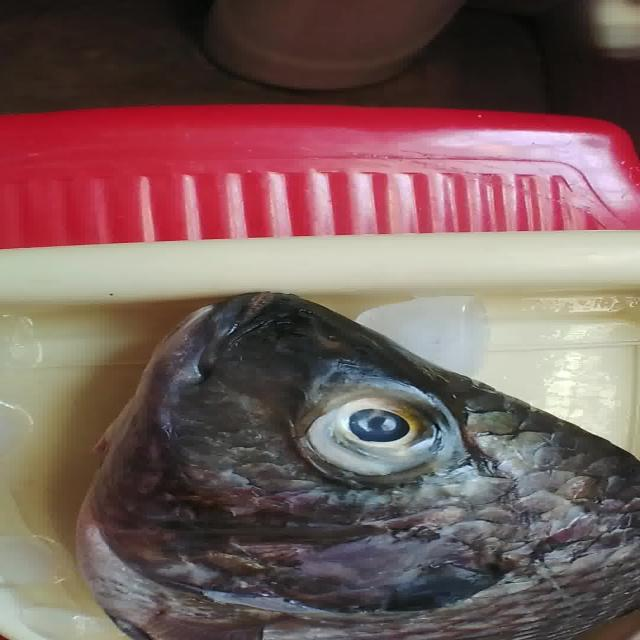Fresh: (229, 374, 518, 490)
